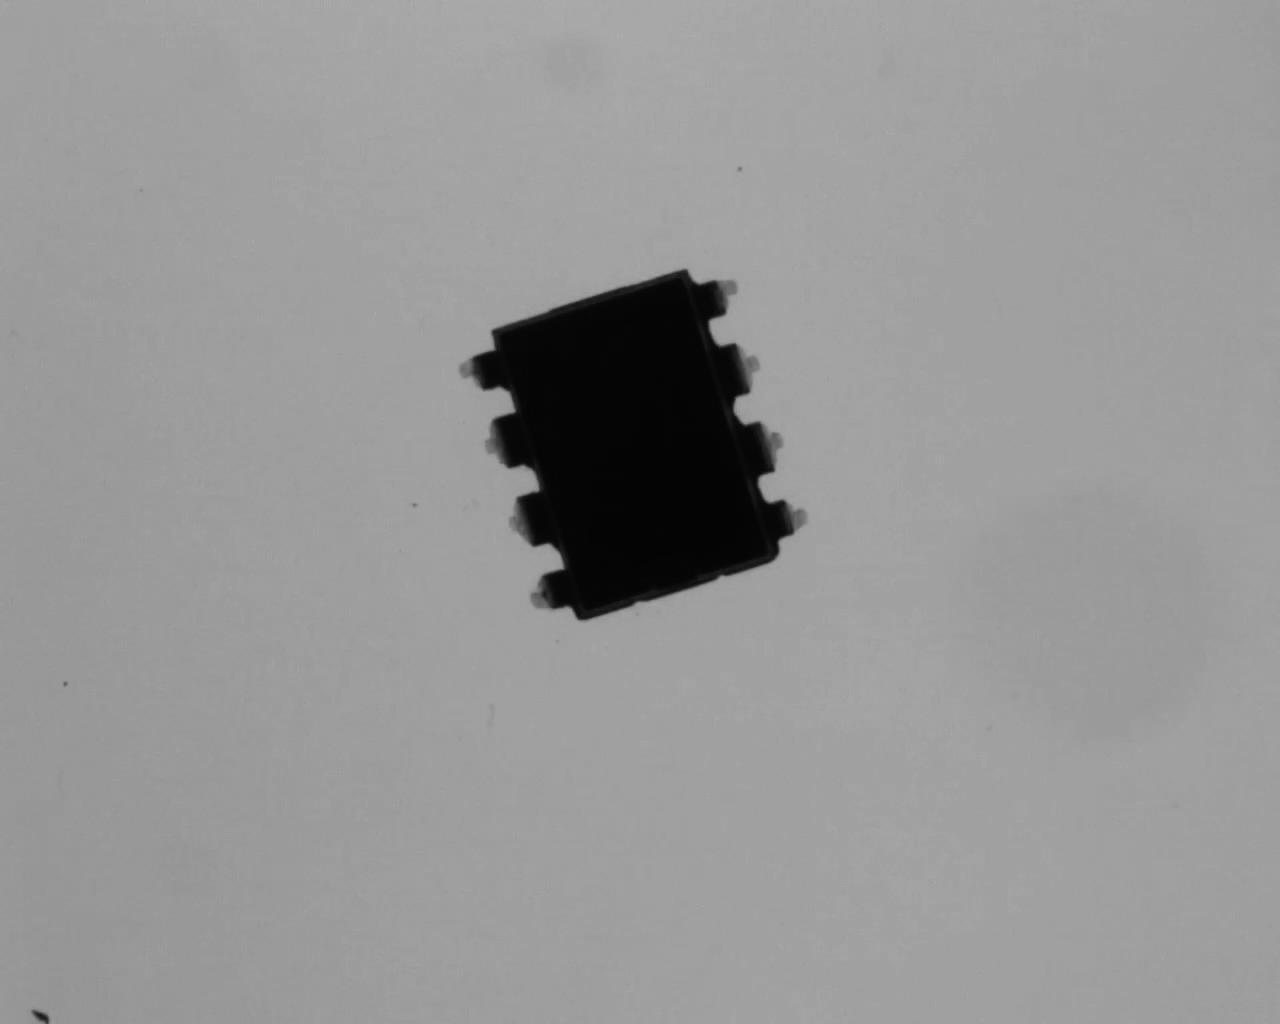Leg: (505, 487, 560, 554), (737, 412, 789, 480), (472, 412, 529, 473), (449, 344, 513, 397), (715, 334, 763, 401), (525, 563, 578, 620), (692, 272, 743, 323), (764, 491, 813, 543)
